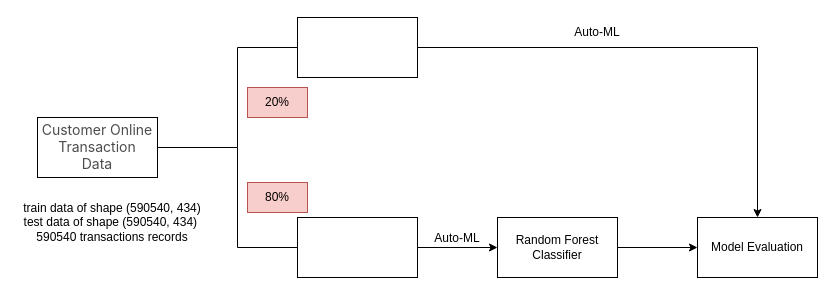
The diagram is 835 pixels wide and 295 high, and some of its shapes have lost their labels. The shapes that lost their labels are listed below. From the top down, each one's box as (x1, y1, x2, y2) in pixels, then its label:
(296, 16, 418, 78): Testing Set
(296, 216, 418, 278): Training Set
